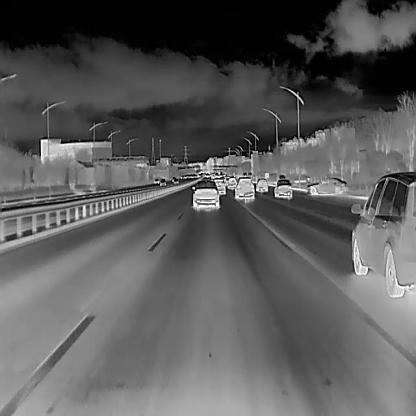car: (348, 168, 416, 297), (191, 176, 220, 212), (306, 175, 350, 196), (233, 175, 255, 200), (273, 176, 293, 201), (254, 177, 268, 193), (212, 177, 225, 194), (226, 176, 237, 190), (158, 176, 166, 186), (152, 176, 160, 184), (172, 176, 179, 184)
